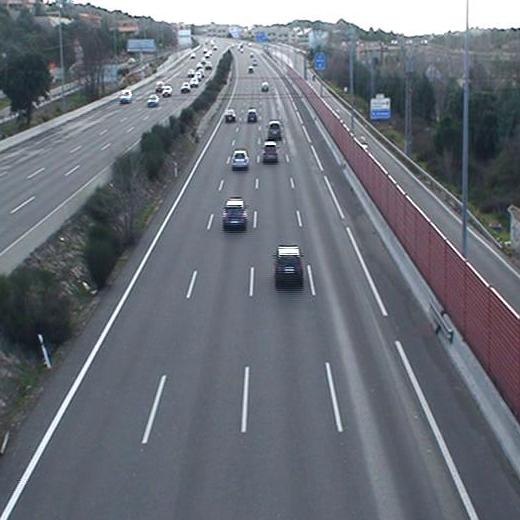car: (270, 242, 305, 280), (221, 195, 248, 226), (229, 146, 251, 168), (261, 138, 280, 162), (266, 121, 283, 138), (244, 108, 258, 125), (223, 108, 237, 124)
